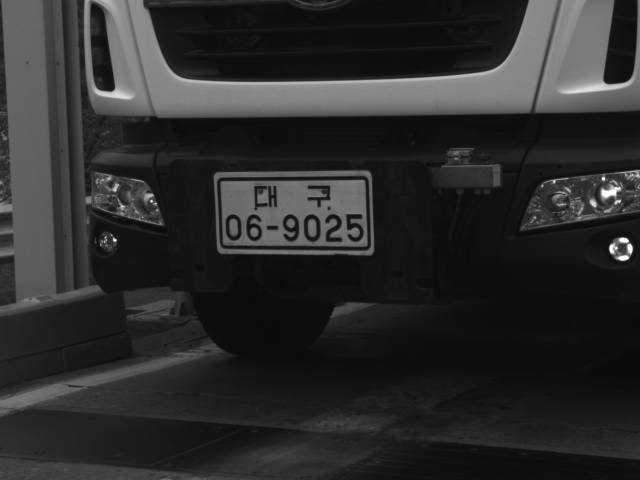car: (75, 1, 640, 364)
plate: (211, 170, 375, 254)
